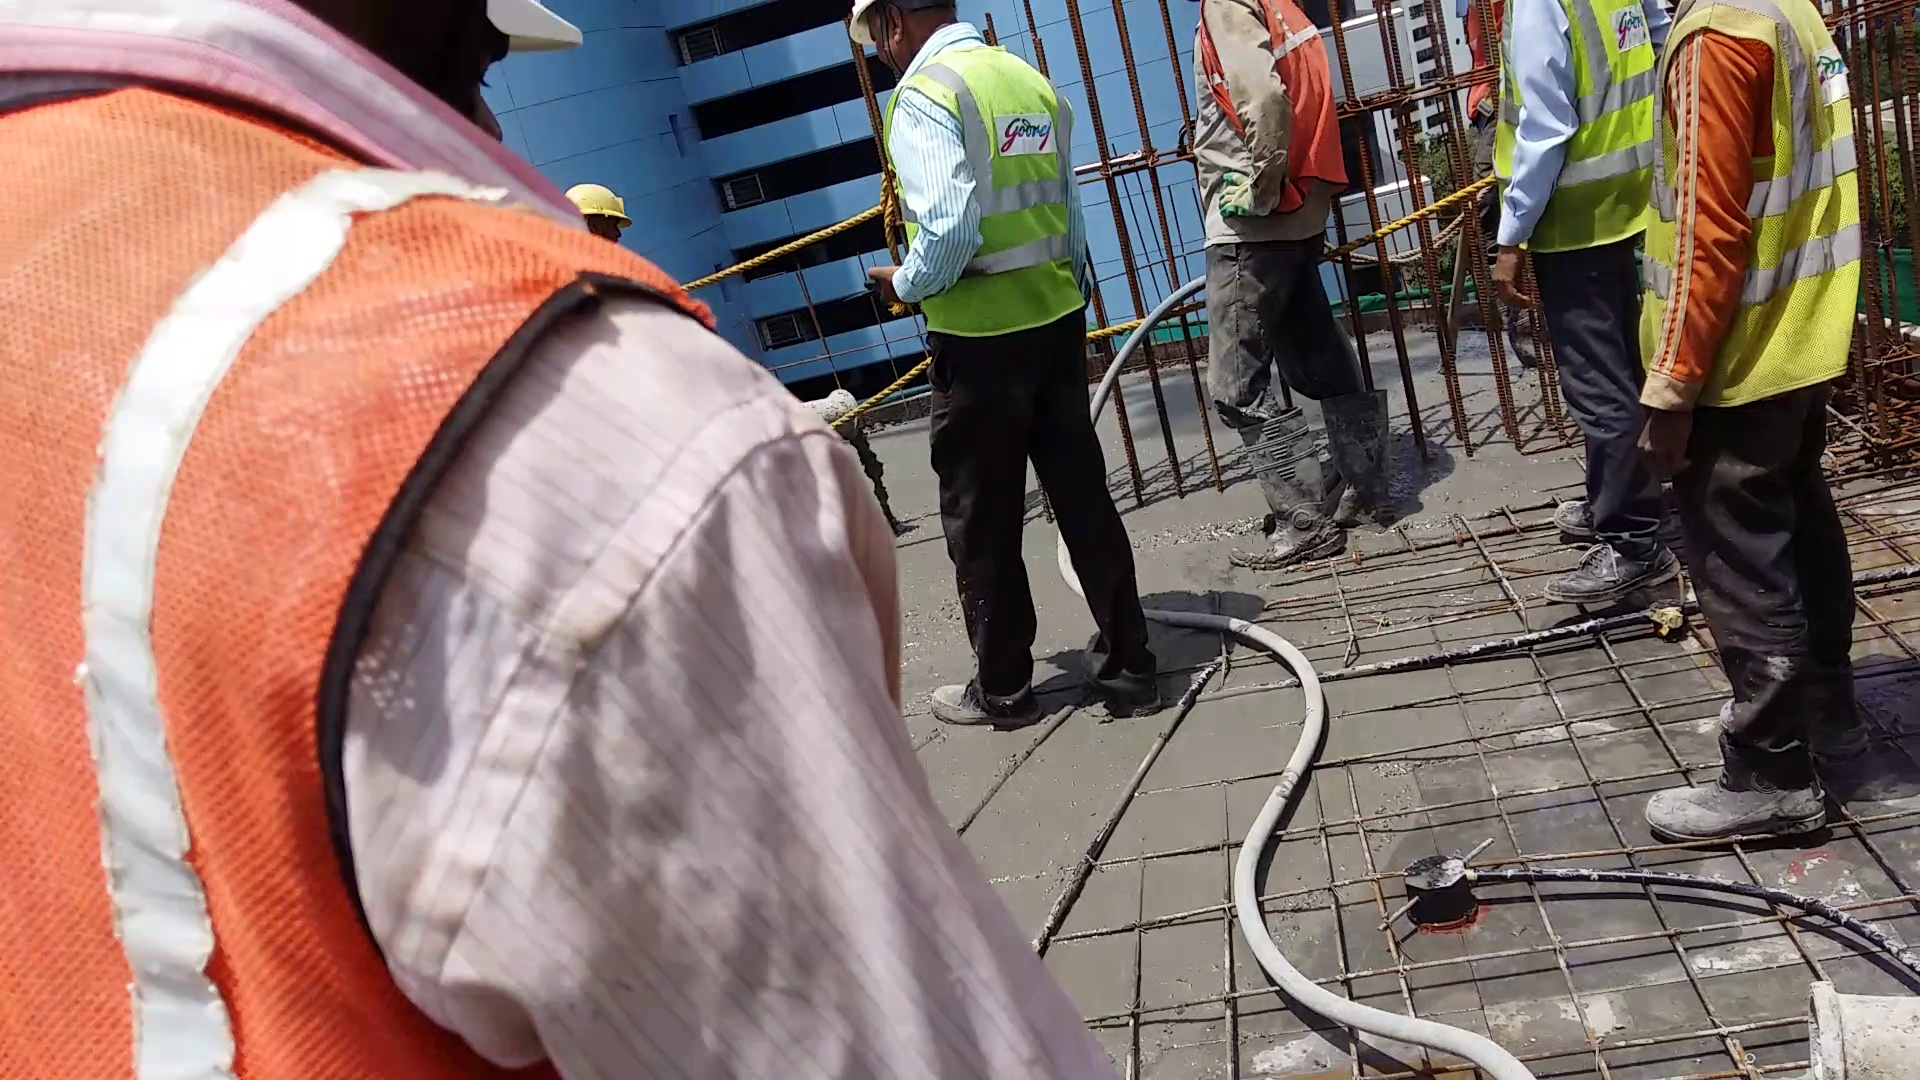SAFE: (849, 1, 1073, 330)
